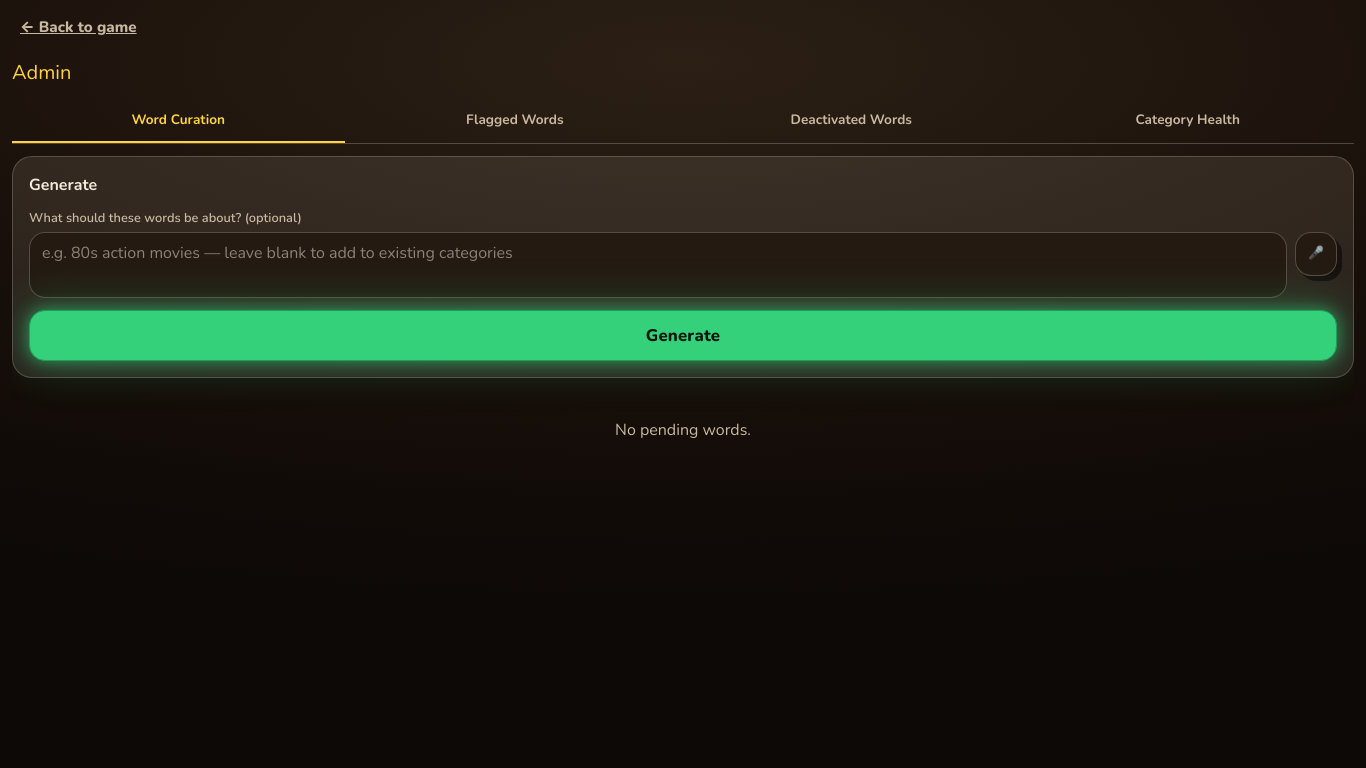
AdminScreen › clears the queue when Reject All is clicked
Expected: the heading "Generate" is shown, top-left (29, 174), bottom-right (97, 196)
Click the button "Generate" at (683, 336), box top-left (29, 310), bottom-right (1337, 361)
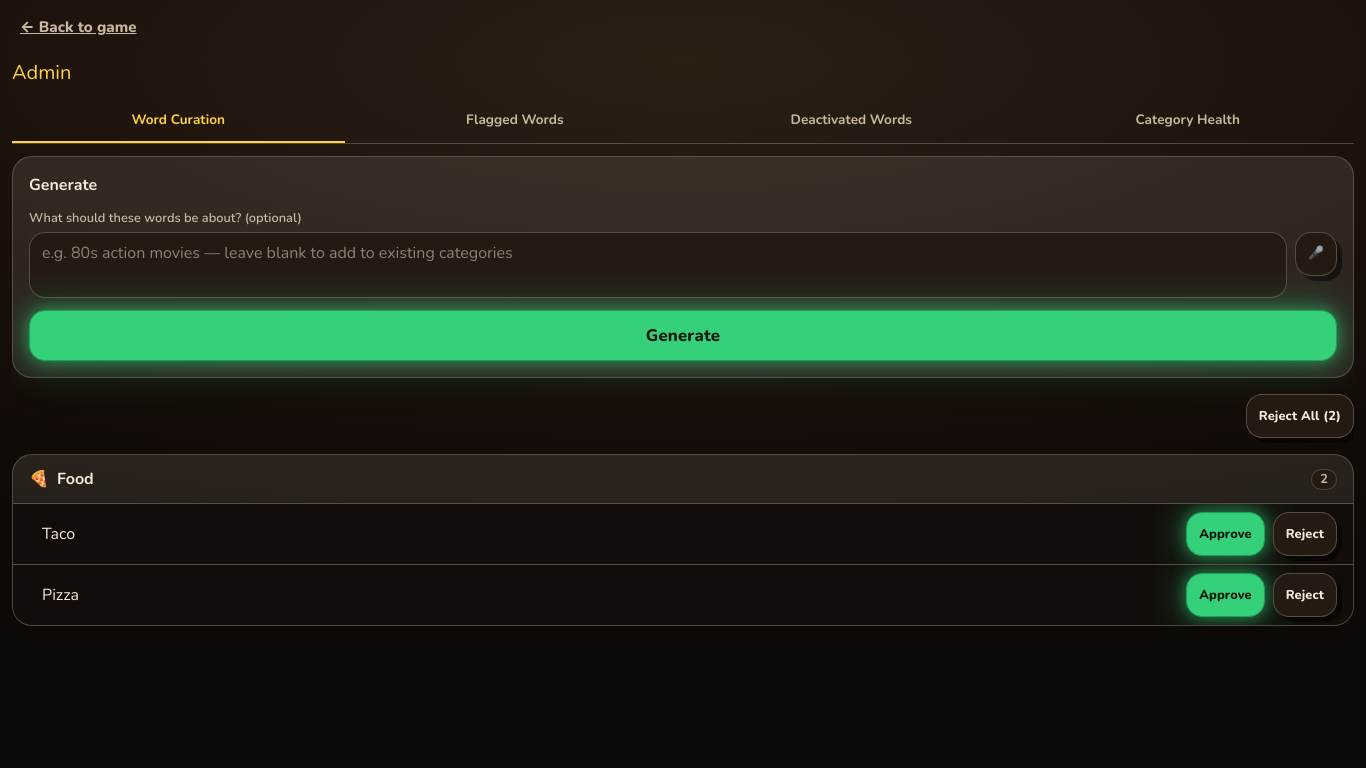
Result: the field showing "Taco" is shown at top-left (29, 512), bottom-right (1178, 556)
Click the button "Reject All (2)" at (1300, 416), box top-left (1246, 394), bottom-right (1354, 438)
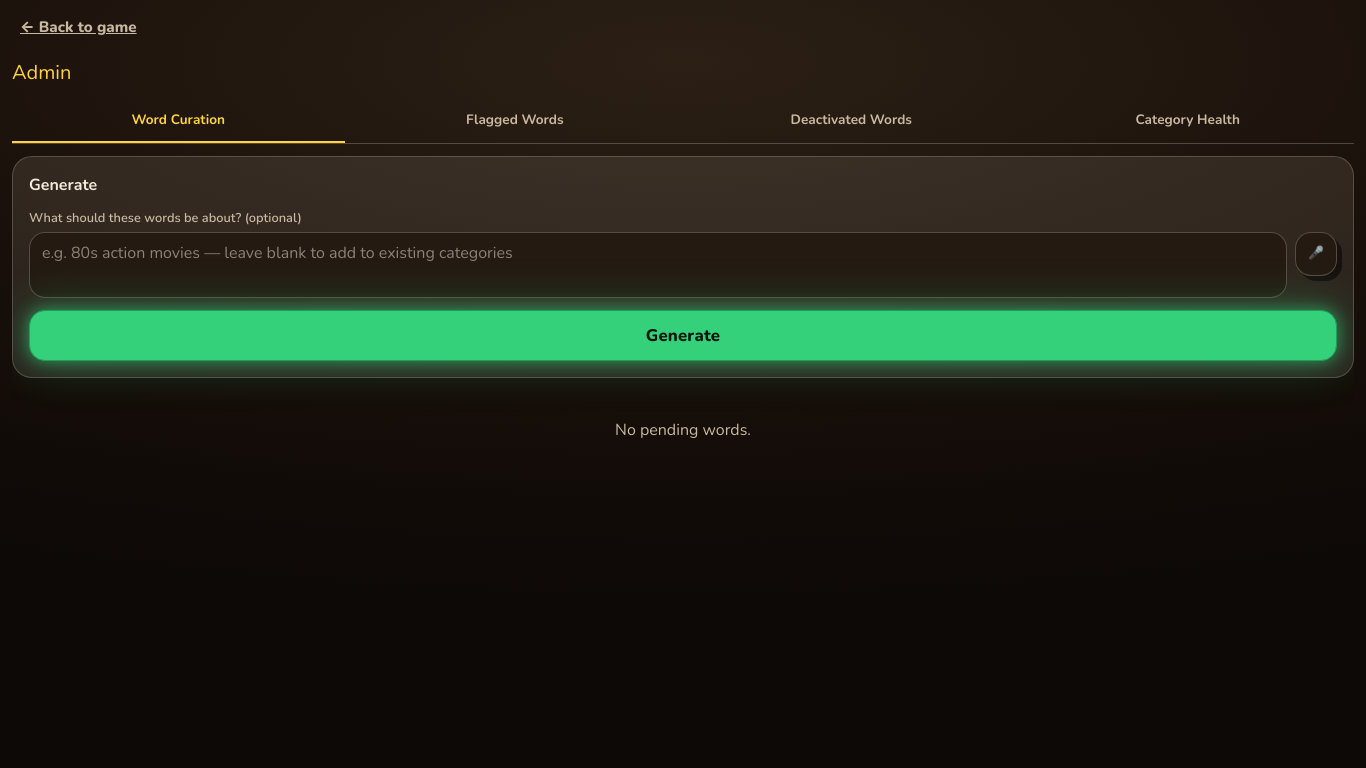
Result: the text "No pending words." is shown at top-left (615, 419), bottom-right (751, 441)
